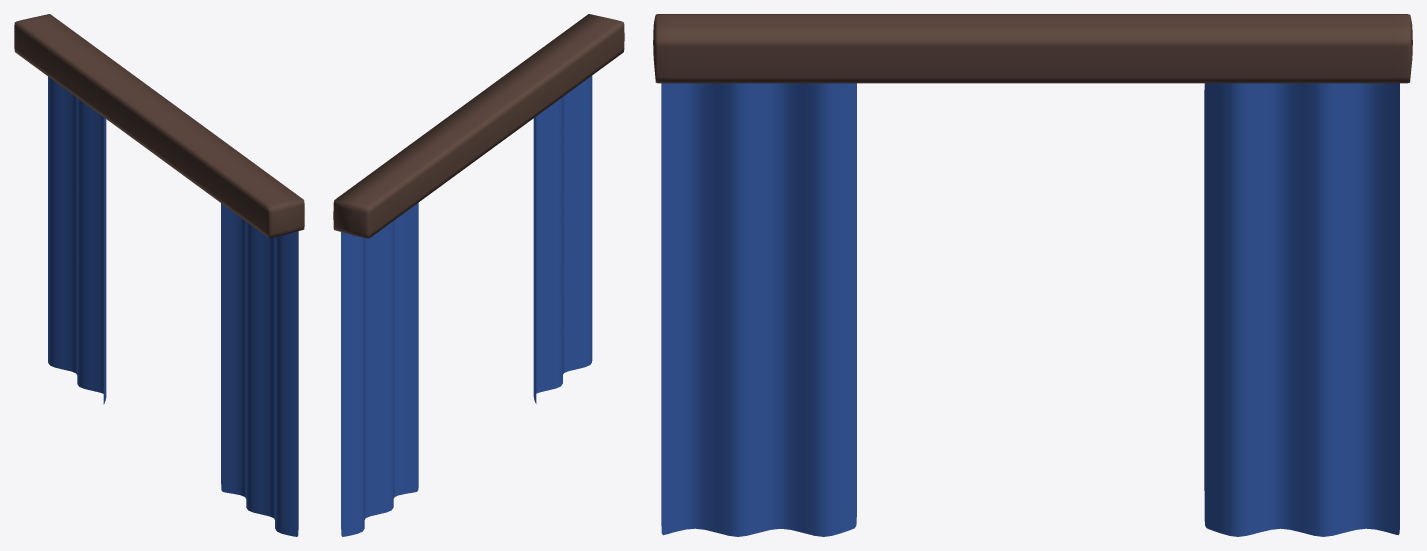
Rendered from Curtain.fbx.
3 renders of one model, left to right at view 1: azimuth 30°, elevation 25°; view 2: azimuth 150°, elevation 25°; view 3: azimuth 270°, elevation 25°, orthographic. The views are drawn at different scales.
Parts seen in each view (by area): view 1: Plane; view 2: Plane; view 3: Plane.
Part boxes in pixels (bbox=[...]): Plane: bbox=[14, 14, 304, 536]; Plane: bbox=[333, 14, 624, 536]; Plane: bbox=[653, 14, 1412, 536].
Size of the model in its own units: 34.14 by 307 by 422.
